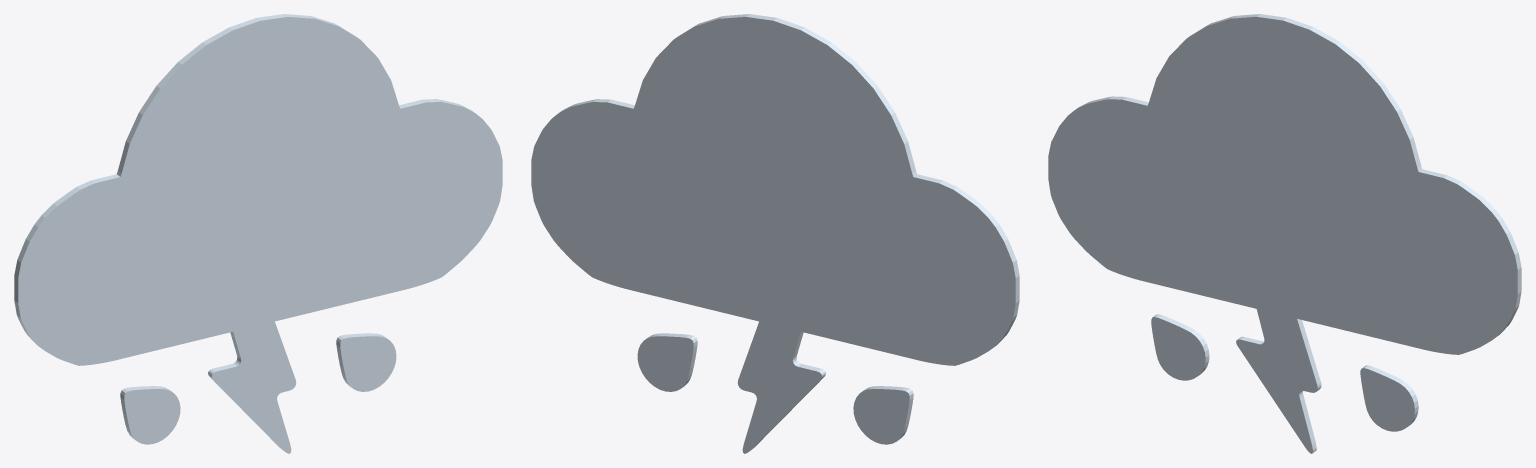
The model's file is Thunderstorm_3D_Icon_02.fbx.
3 views of the same model, side by side, from view 1: azimuth 30°, elevation 25°; view 2: azimuth 150°, elevation 25°; view 3: azimuth 330°, elevation 25° (orthographic). The views are drawn at different scales.
Parts seen in each view (by area): view 1: Thunderstorm_3D_Icon_02; view 2: Thunderstorm_3D_Icon_02; view 3: Thunderstorm_3D_Icon_02.
Boxes of the visible parts, x1,y1,x2,y2 form: Thunderstorm_3D_Icon_02: [14, 14, 502, 453]; Thunderstorm_3D_Icon_02: [531, 14, 1019, 453]; Thunderstorm_3D_Icon_02: [1048, 14, 1521, 453].
Size of the model in its own units: 142 by 124 by 2.
